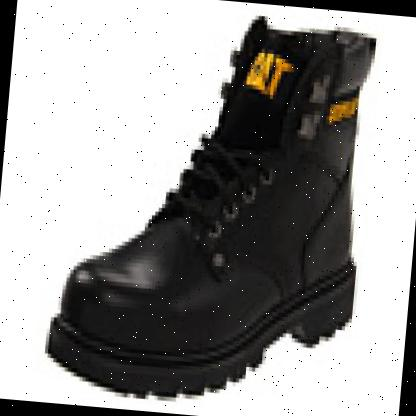bota: (34, 0, 394, 416)
